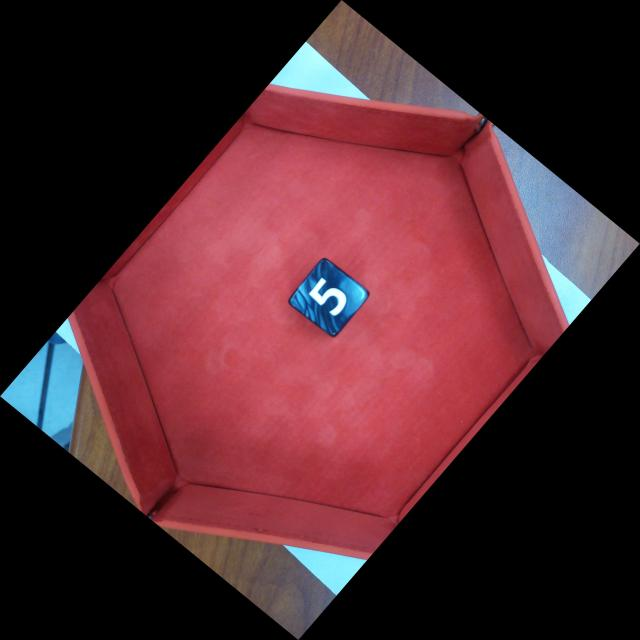dice: (285, 255, 372, 339)
